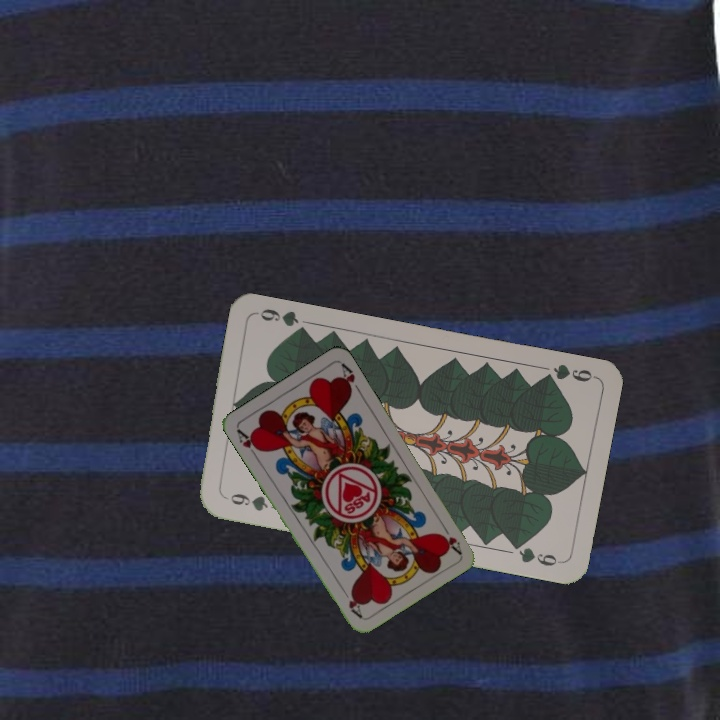G9: (537, 360, 598, 385), (219, 489, 279, 514)
HA: (233, 425, 263, 461), (436, 519, 464, 556)
